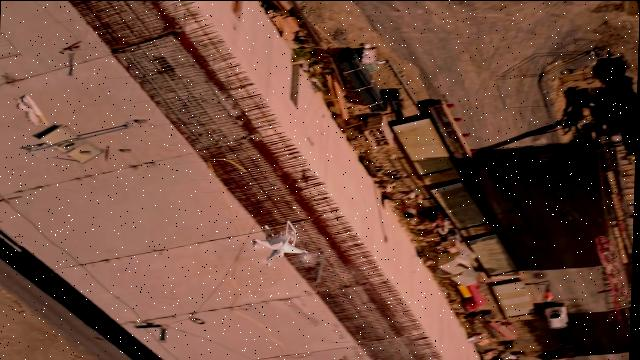drone: (247, 219, 313, 267)
